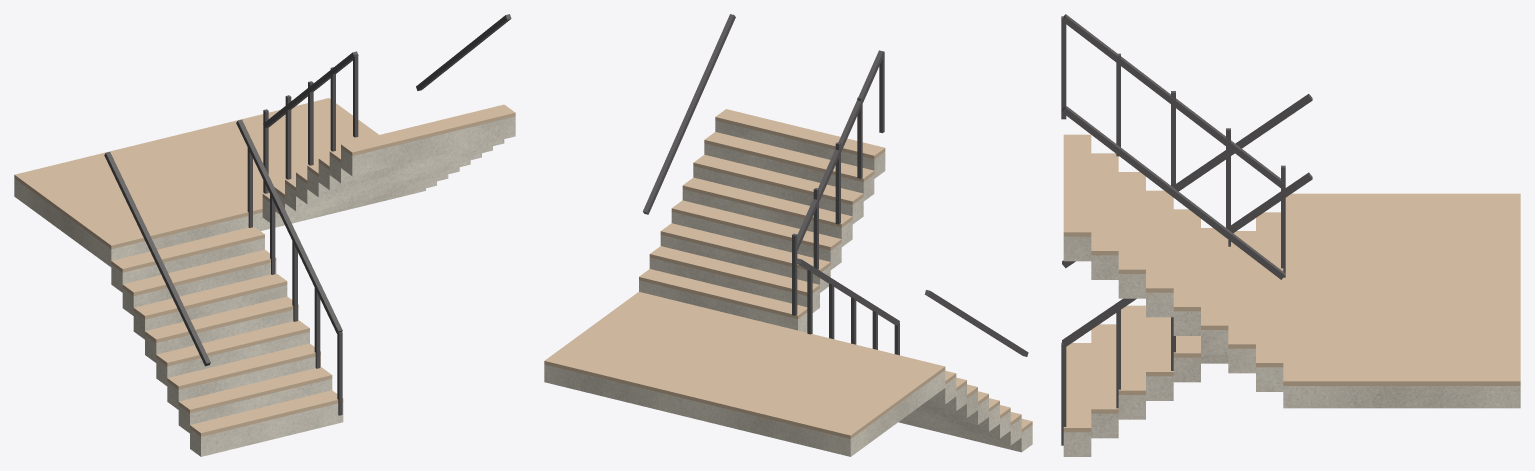
File: stairs_u_3m_168_192.glb
The picture shows the model from 3 angles, left to right: view 1: azimuth 30°, elevation 25°; view 2: azimuth 150°, elevation 25°; view 3: azimuth 270°, elevation 25°; orthographic projection. The views are drawn at different scales.
Parts seen in each view (by area): view 1: stairs_u_3m_168_192_floor, stairs_u_3m_168_192_plaster, stairs_u_3m_168_192_iron; view 2: stairs_u_3m_168_192_floor, stairs_u_3m_168_192_plaster, stairs_u_3m_168_192_iron; view 3: stairs_u_3m_168_192_floor, stairs_u_3m_168_192_plaster, stairs_u_3m_168_192_iron.
Boxes of the visible parts, left/top/right/bottom form: stairs_u_3m_168_192_floor: left=14, top=98, right=515, bottom=436; stairs_u_3m_168_192_plaster: left=14, top=116, right=515, bottom=456; stairs_u_3m_168_192_iron: left=104, top=14, right=511, bottom=415; stairs_u_3m_168_192_floor: left=544, top=109, right=1032, bottom=438; stairs_u_3m_168_192_plaster: left=544, top=120, right=1032, bottom=456; stairs_u_3m_168_192_iron: left=643, top=14, right=1028, bottom=356; stairs_u_3m_168_192_floor: left=1063, top=134, right=1520, bottom=432; stairs_u_3m_168_192_plaster: left=1063, top=236, right=1520, bottom=456; stairs_u_3m_168_192_iron: left=1061, top=14, right=1312, bottom=445.
Size of the model in its own units: 3.6 by 4.01 by 3.72.
3 materials, 1 textured.
